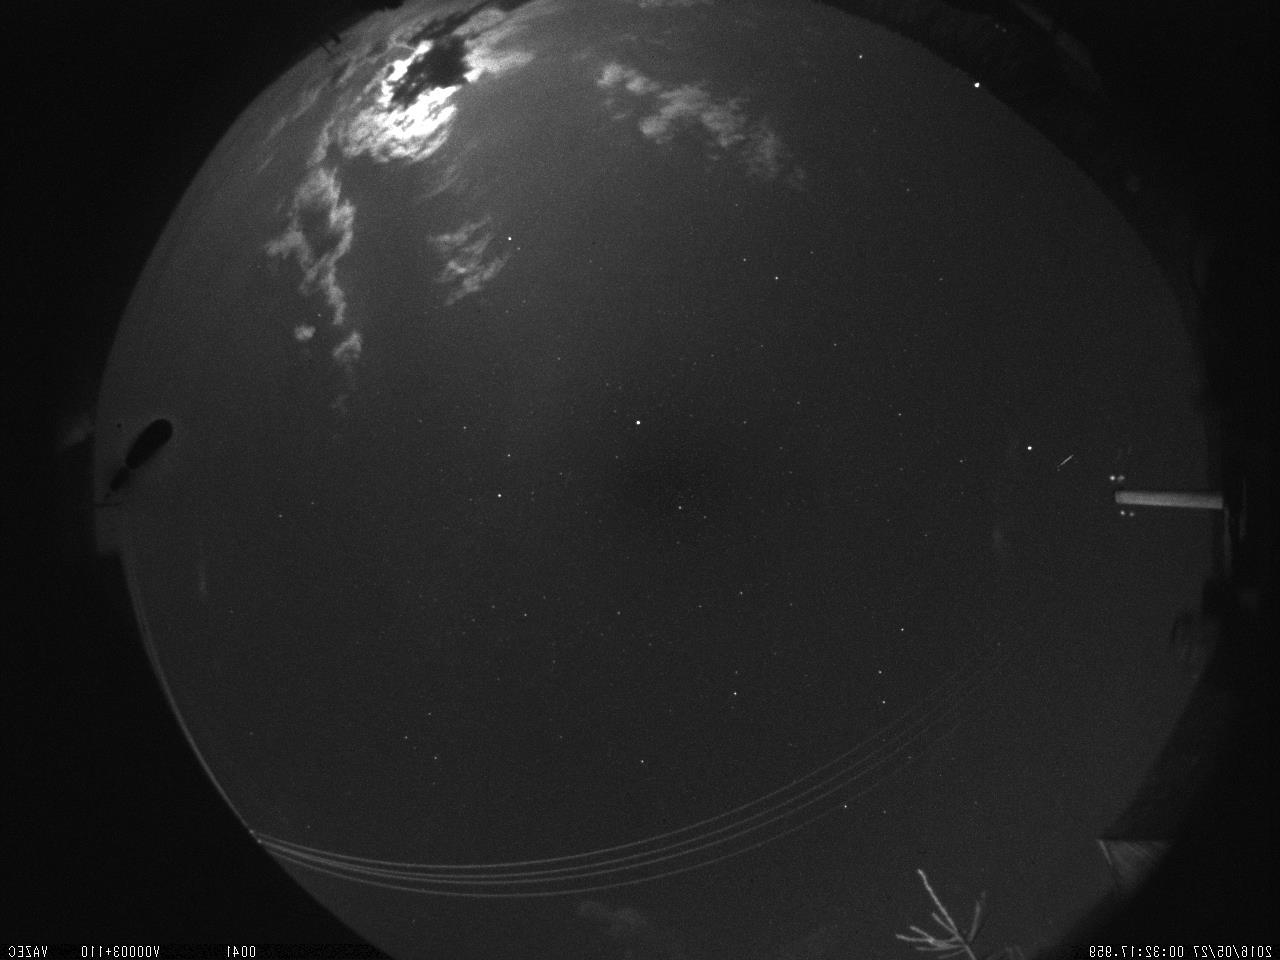meteor: (1043, 446, 1091, 479)
